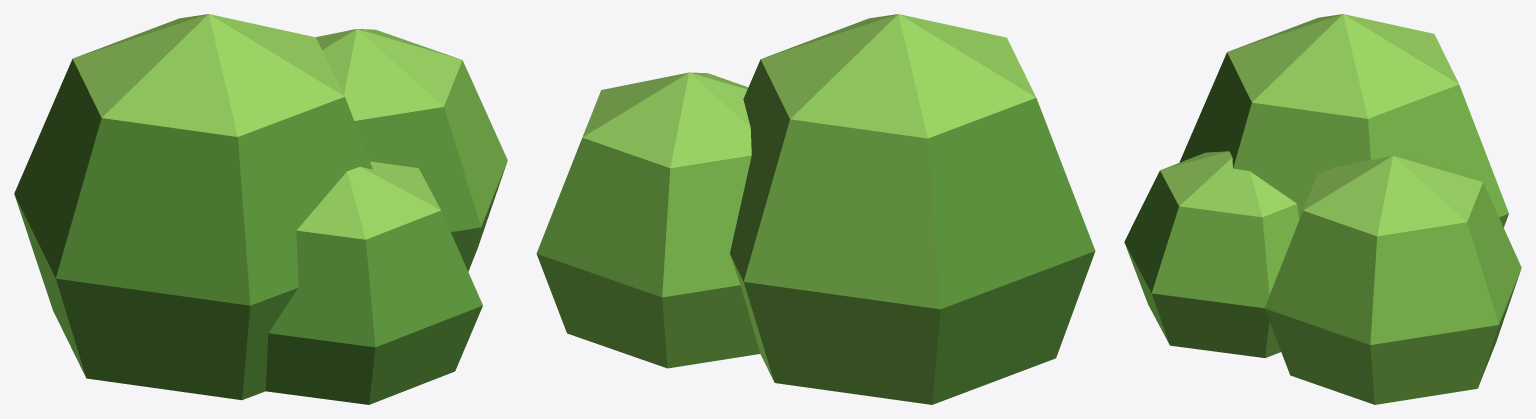
The model's file is plant_bushLarge.glb.
3 renders of one model, left to right at view 1: azimuth 30°, elevation 25°; view 2: azimuth 150°, elevation 25°; view 3: azimuth 270°, elevation 25°, orthographic. The views are drawn at different scales.
Parts seen in each view (by area): view 1: plant_bushLarge; view 2: plant_bushLarge; view 3: plant_bushLarge.
Part boxes in pixels (left/top/right/bottom): plant_bushLarge: left=14, top=14, right=507, bottom=404; plant_bushLarge: left=536, top=14, right=1095, bottom=404; plant_bushLarge: left=1124, top=14, right=1521, bottom=404.
Size of the model in its own units: 0.3856 by 0.24 by 0.3185.
1 material, 1 textured.
